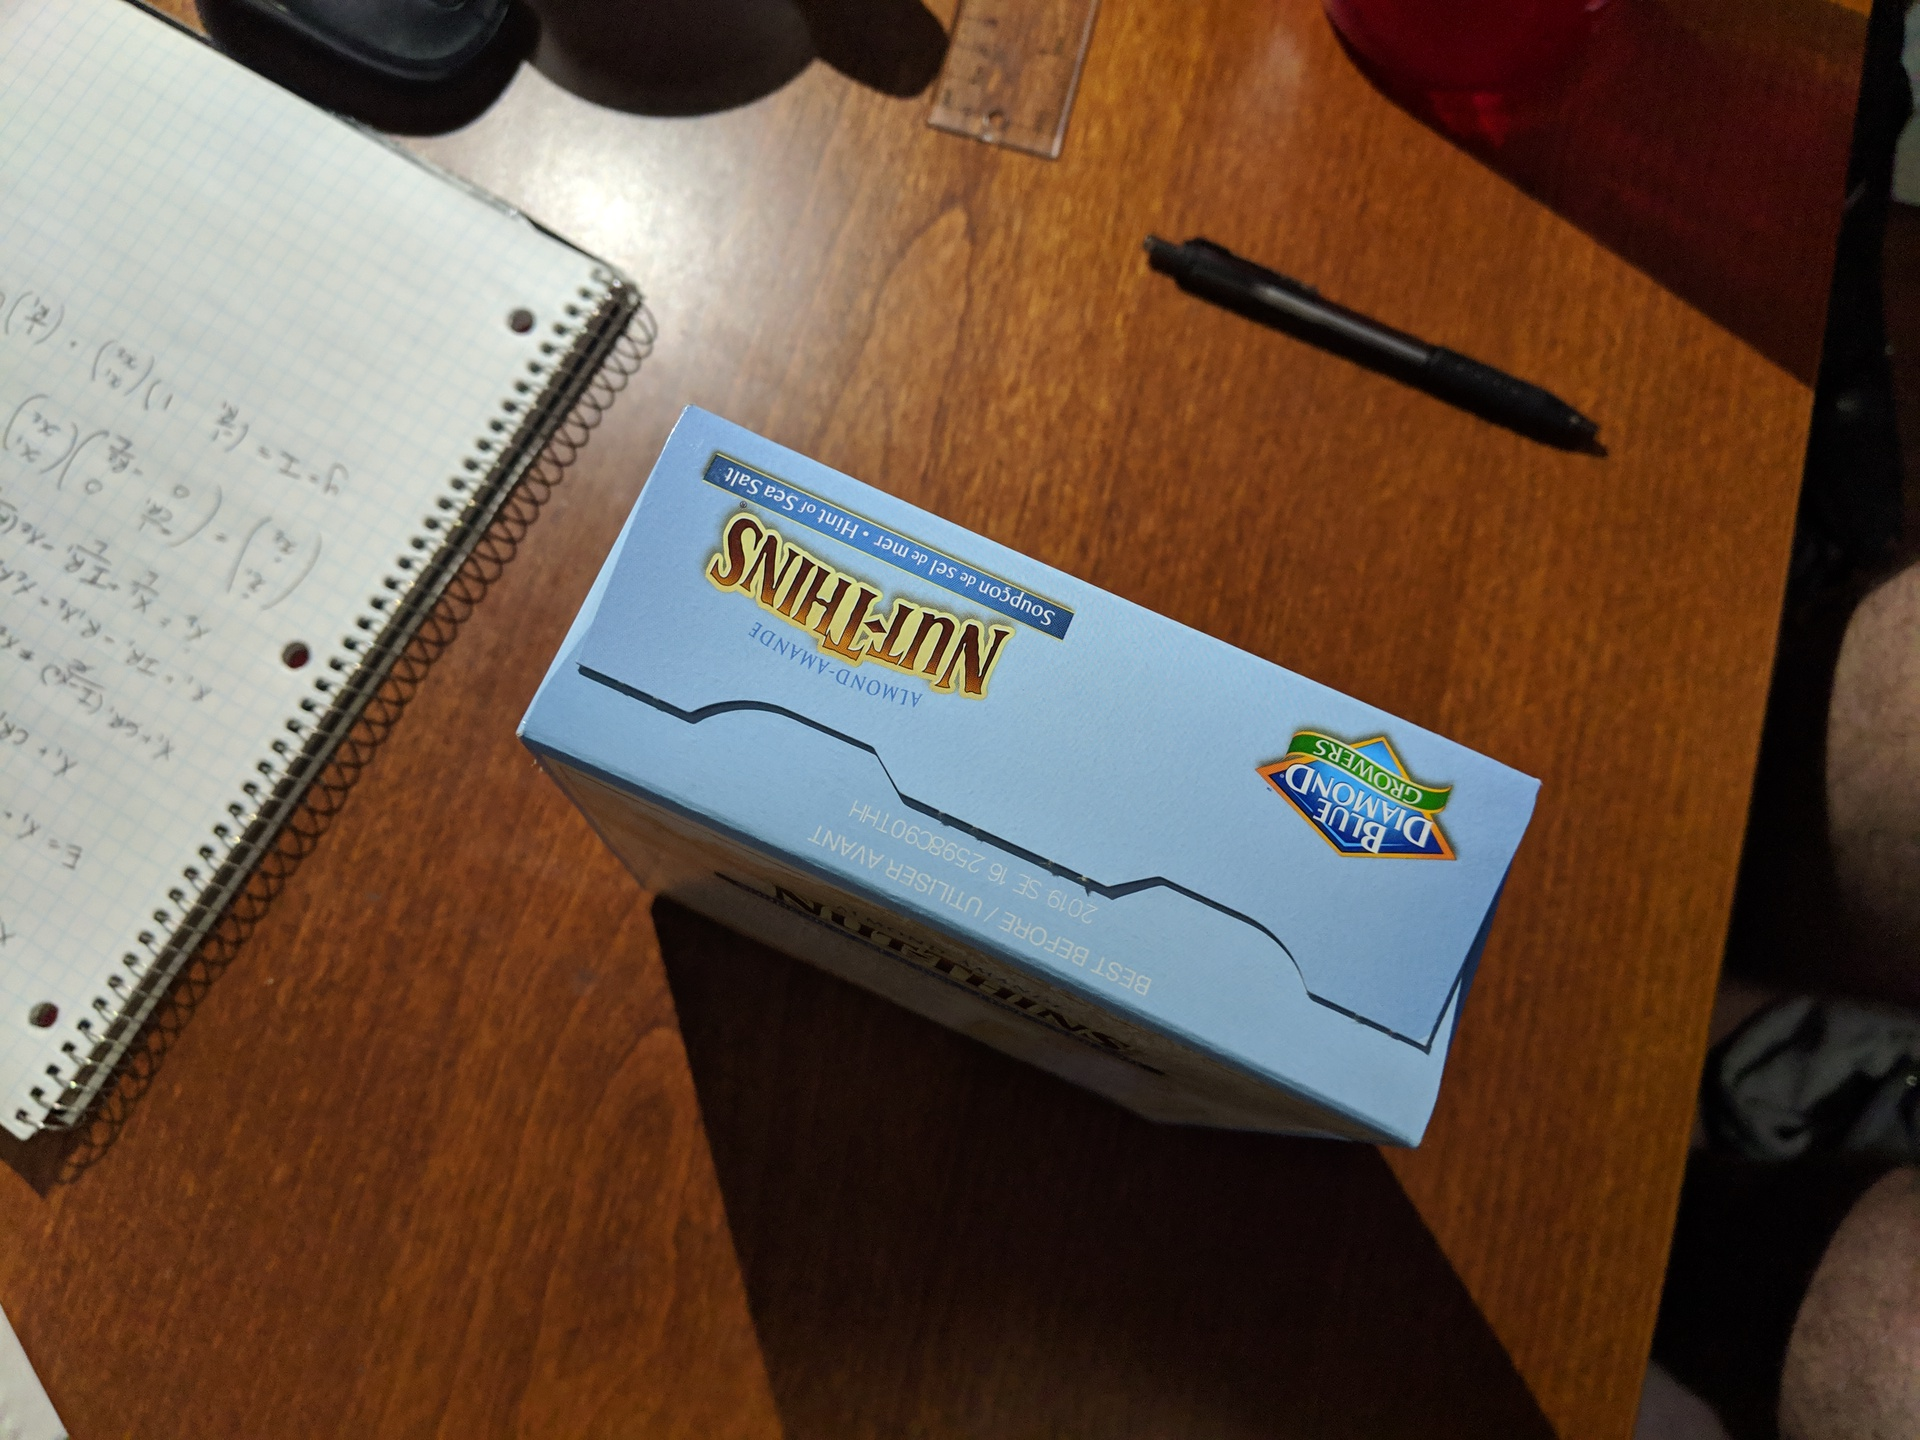blue_diamond_nut_thins_almond_seasalt: (590, 470, 1525, 1147)
